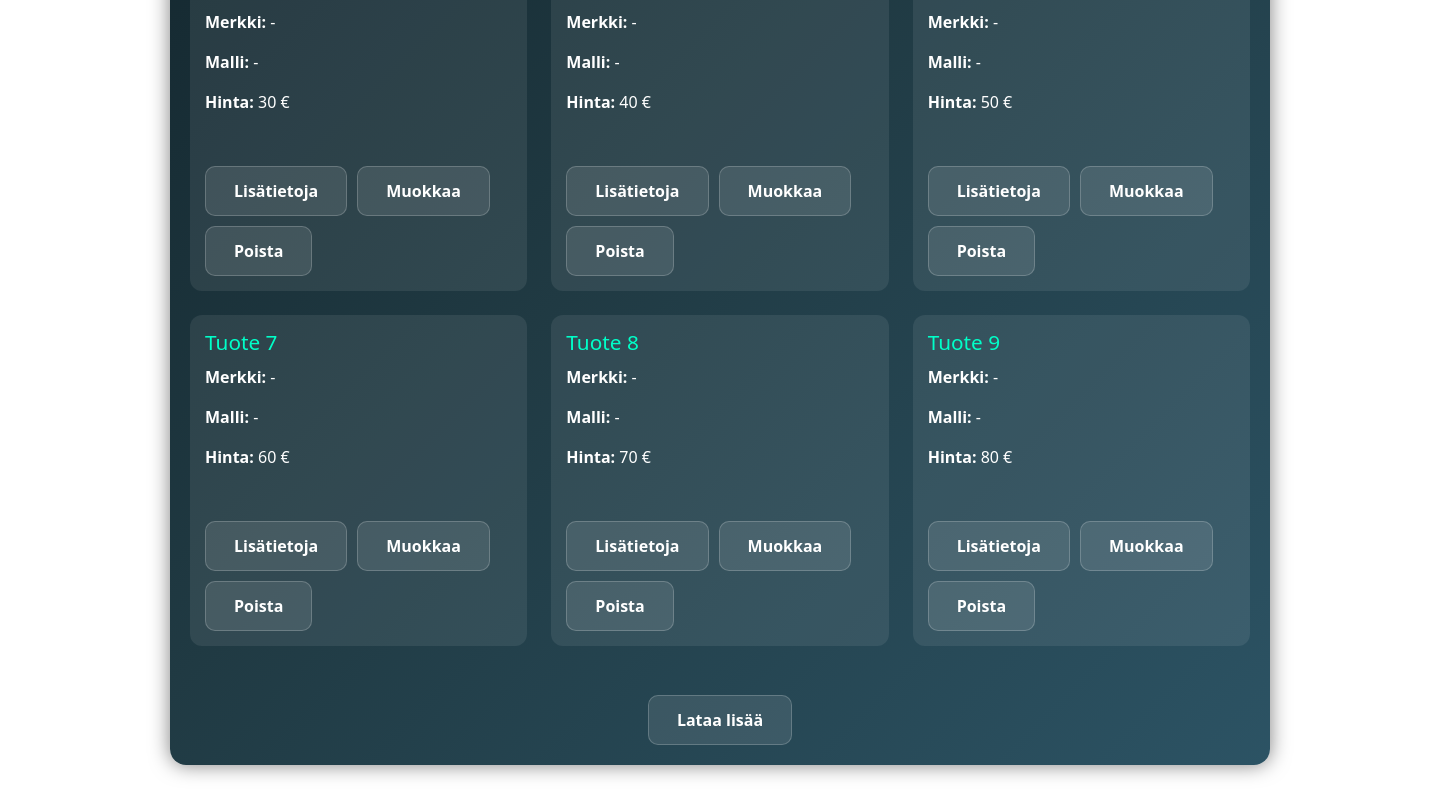
Scenario: MyProducts component › lataa lisää tuotteita
(page scrolled)
Expected: the heading "Tuote 9" is shown, [928, 328, 1000, 356]
Expected: the text "Tuote 10" is not shown
Click the button "Lataa lisää": (720, 720) [648, 695, 792, 745]
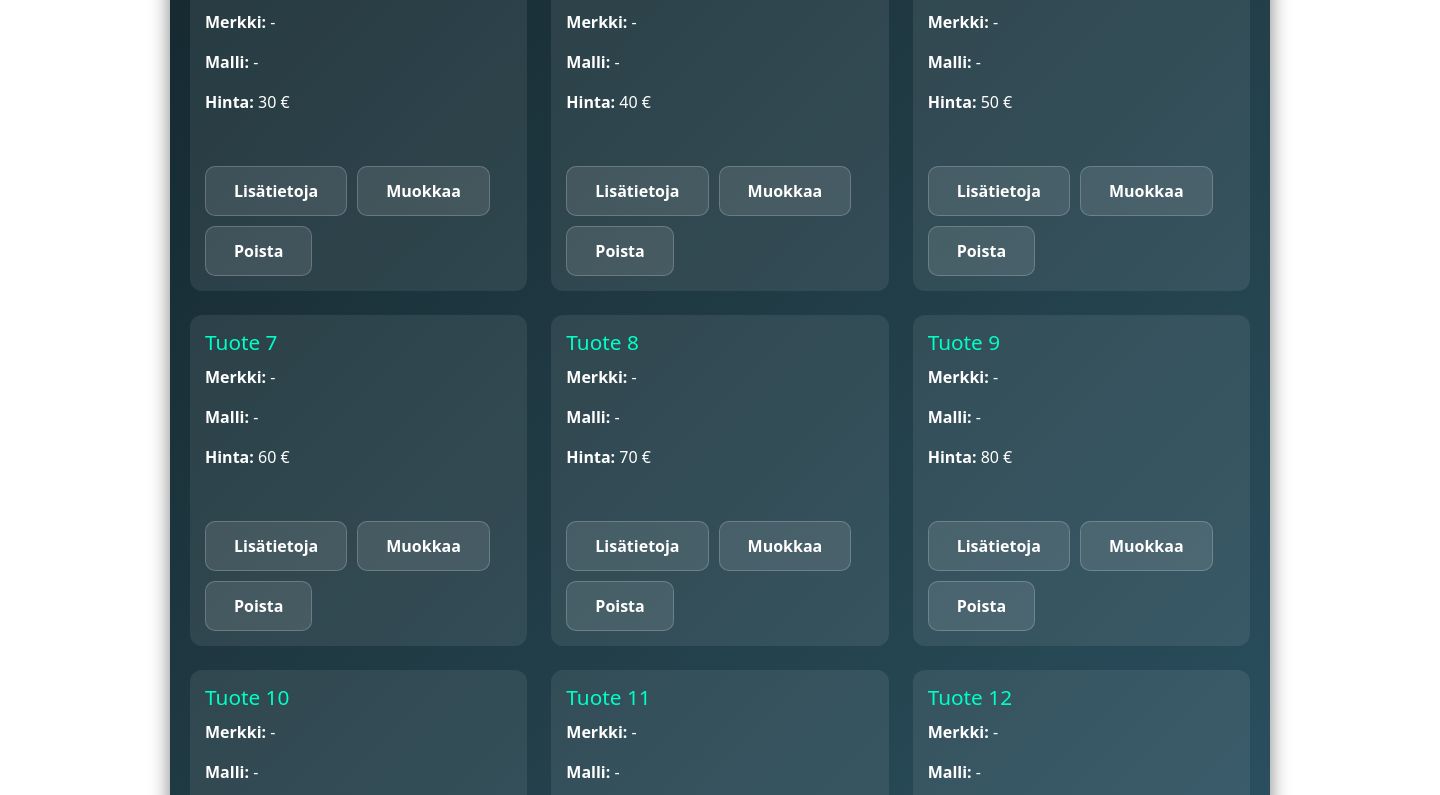
Result: the heading "Tuote 10" is shown at [205, 683, 289, 711]
Result: the heading "Tuote 12" is shown at [928, 683, 1012, 711]
